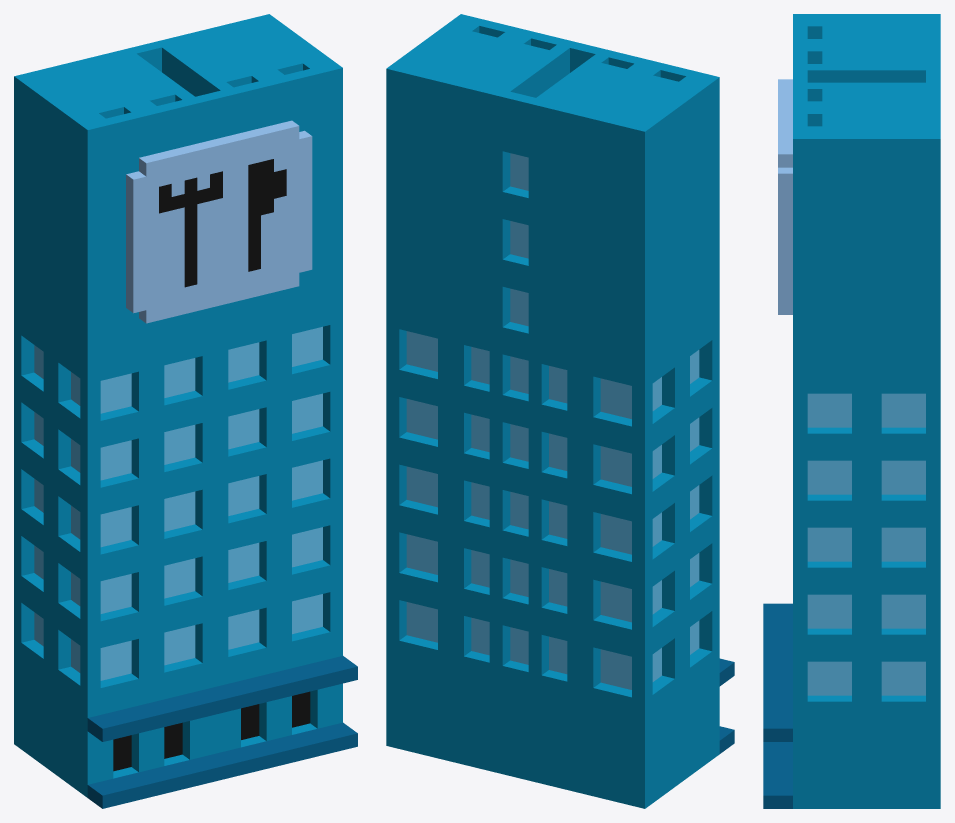
The model's file is Restaurant.obj.
3 renders of one model, left to right at view 1: azimuth 30°, elevation 25°; view 2: azimuth 150°, elevation 25°; view 3: azimuth 270°, elevation 25°, orthographic.
Size of the model in its own units: 2 by 5 by 1.2.
1 material, 1 textured.
